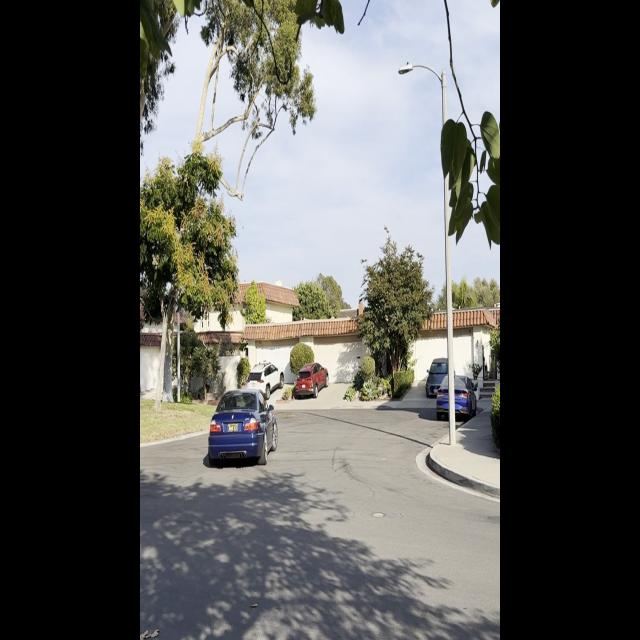Carbeetle: (199, 380, 279, 478)
Civilian: (435, 373, 477, 423), (246, 361, 284, 400), (293, 362, 330, 399), (426, 352, 453, 398)
